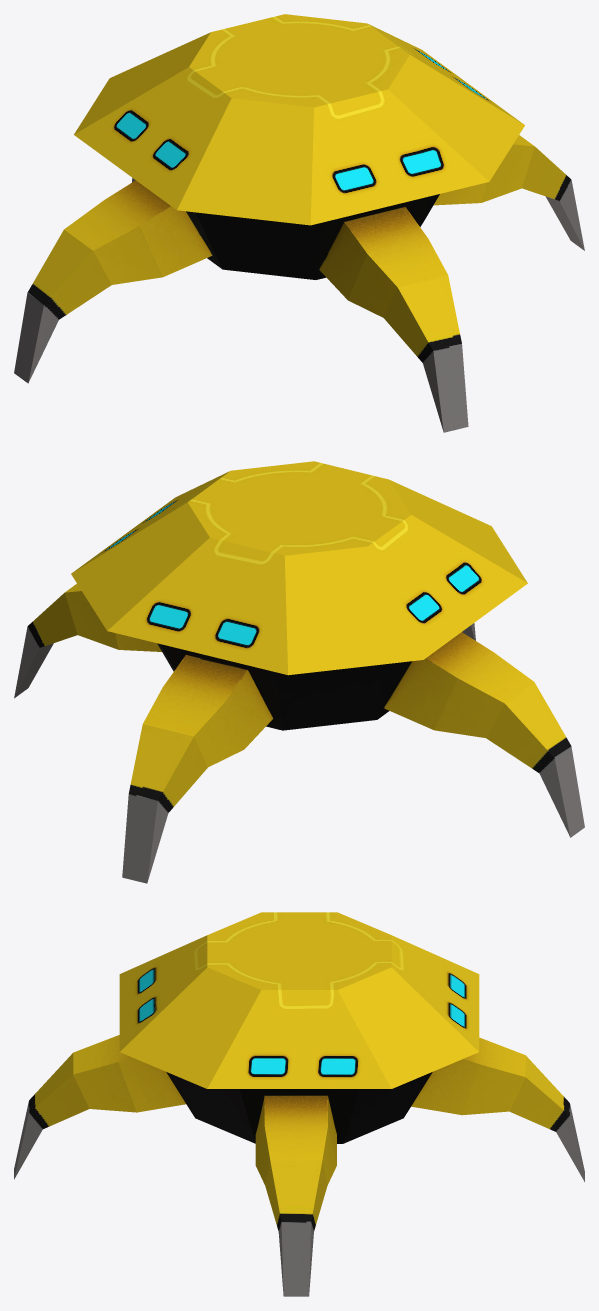
File: enemy.gltf
The picture shows the model from 3 angles, top to bottom: view 1: azimuth 30°, elevation 25°; view 2: azimuth 150°, elevation 25°; view 3: azimuth 270°, elevation 25°; orthographic projection. The views are drawn at different scales.
Visible parts, largest first — view 1: Ship; view 2: Ship; view 3: Ship.
Boxes of the visible parts, <box> form: Ship: <box>14,14,584,432</box>; Ship: <box>14,461,584,883</box>; Ship: <box>14,912,584,1296</box>.
Size of the model in its own units: 2.74 by 1.19 by 2.74.
1 material, 1 textured.
